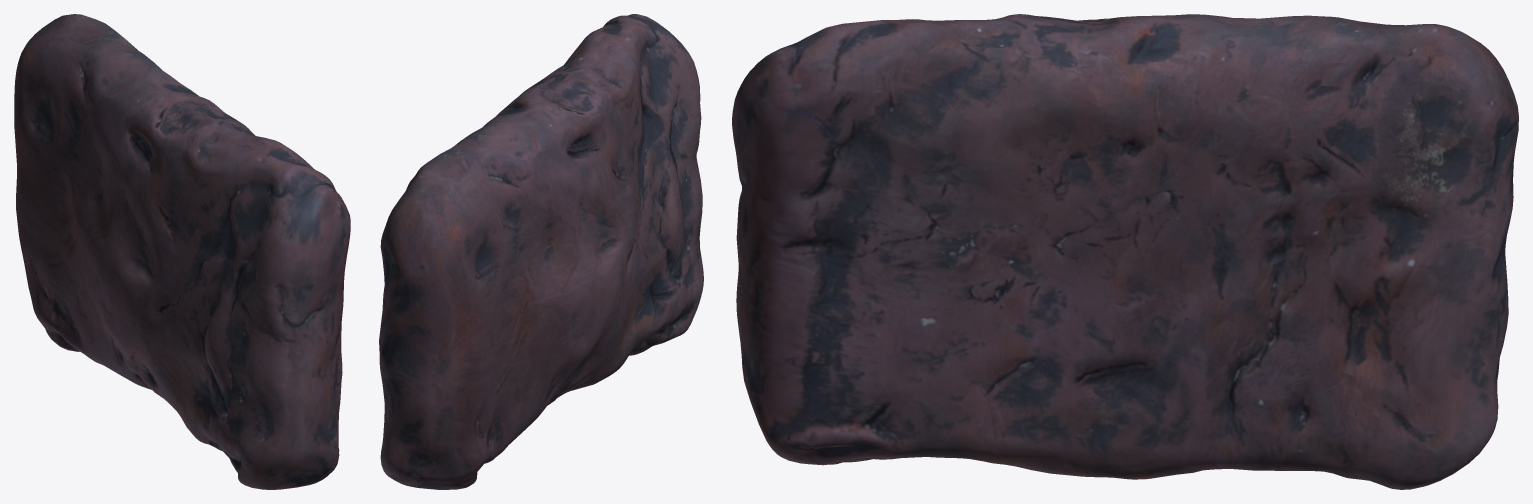
File: Malte_Sign1.glb
The picture shows the model from 3 angles, left to right: view 1: azimuth 30°, elevation 25°; view 2: azimuth 150°, elevation 25°; view 3: azimuth 270°, elevation 25°; orthographic projection. The views are drawn at different scales.
Parts seen in each view (by area): view 1: Malte_Sign1; view 2: Malte_Sign1; view 3: Malte_Sign1.
Boxes of the visible parts, x1,y1,x2,y2 form: Malte_Sign1: (14,14,350,489); Malte_Sign1: (379,14,703,489); Malte_Sign1: (732,14,1518,489).
Bounding box in the file's own units: 0.2341 × 0.6448 × 1.01.
1 material, 1 textured.
